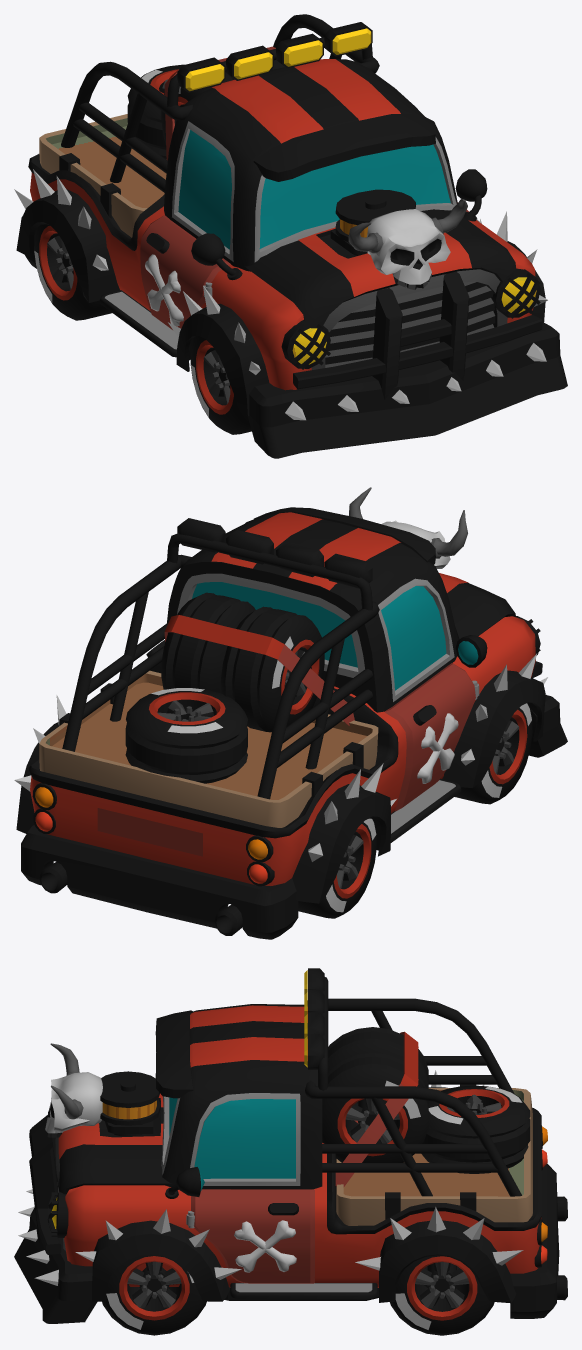
The model's file is VEH19-D.fbx.
3 renders of one model, top to bottom at view 1: azimuth 30°, elevation 25°; view 2: azimuth 150°, elevation 25°; view 3: azimuth 270°, elevation 25°, orthographic. The views are drawn at different scales.
Visible parts, largest first — view 1: VEH19_D, V19D_Wheel_BR, V19D_Wheel_FR, V19D_BodyParts; view 2: VEH19_D, V19D_BodyParts, V19D_Wheel_BR, V19D_Wheel_FR; view 3: VEH19_D, V19D_Wheel_FL, V19D_BodyParts, V19D_Wheel_BL.
Boxes of the visible parts, x1,y1,x2,y2 form: VEH19_D: [14, 14, 567, 458]; V19D_Wheel_BR: [34, 224, 111, 320]; V19D_Wheel_FR: [190, 336, 251, 434]; V19D_BodyParts: [127, 64, 184, 159]; VEH19_D: [14, 487, 567, 939]; V19D_BodyParts: [125, 688, 247, 783]; V19D_Wheel_BR: [298, 818, 376, 918]; V19D_Wheel_FR: [454, 703, 532, 804]; VEH19_D: [14, 968, 567, 1323]; V19D_Wheel_FL: [102, 1254, 206, 1335]; V19D_BodyParts: [421, 1085, 530, 1173]; V19D_Wheel_BL: [390, 1255, 494, 1335].
Size of the model in its own units: 268 by 234 by 441.
Materials: 1 (1 with a texture image).
